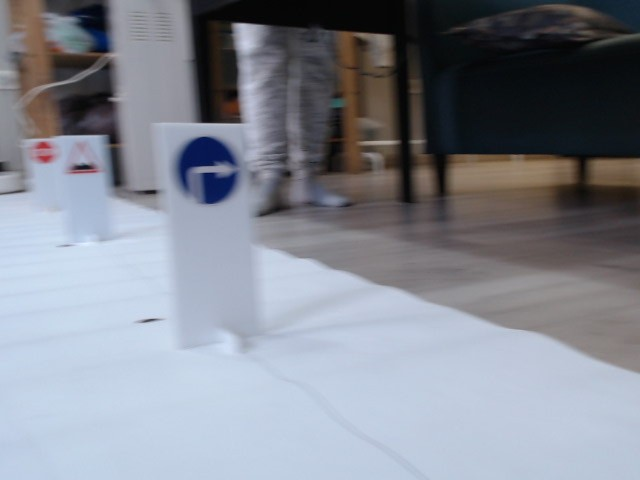Nerov: (65, 141, 104, 176)
Right: (176, 137, 239, 206)
